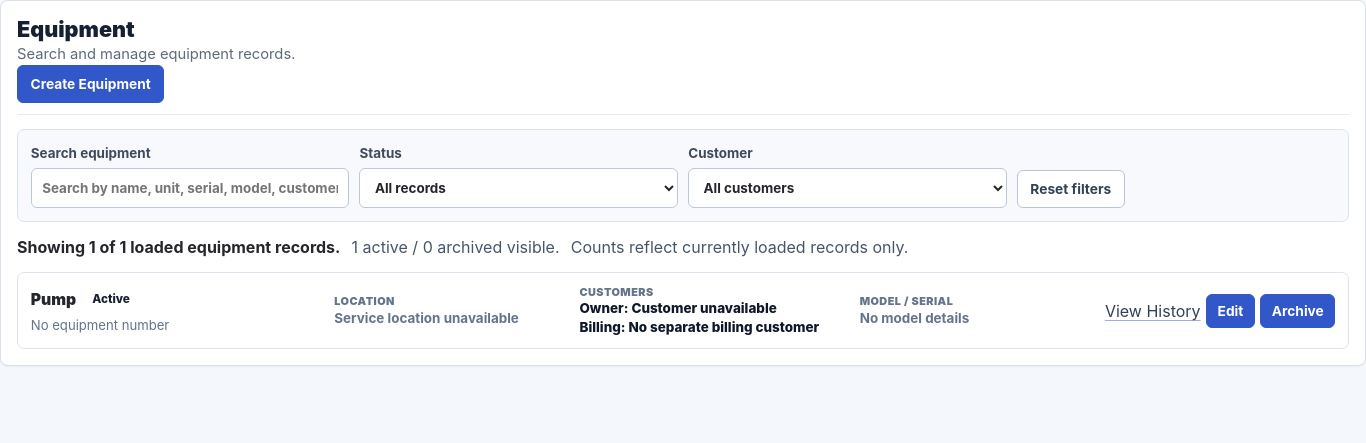
EquipmentPage › archives and unarchives equipment and surfaces unarchive failure
Click the button "Archive". click: (1298, 311)
box: [1260,294,1335,328]
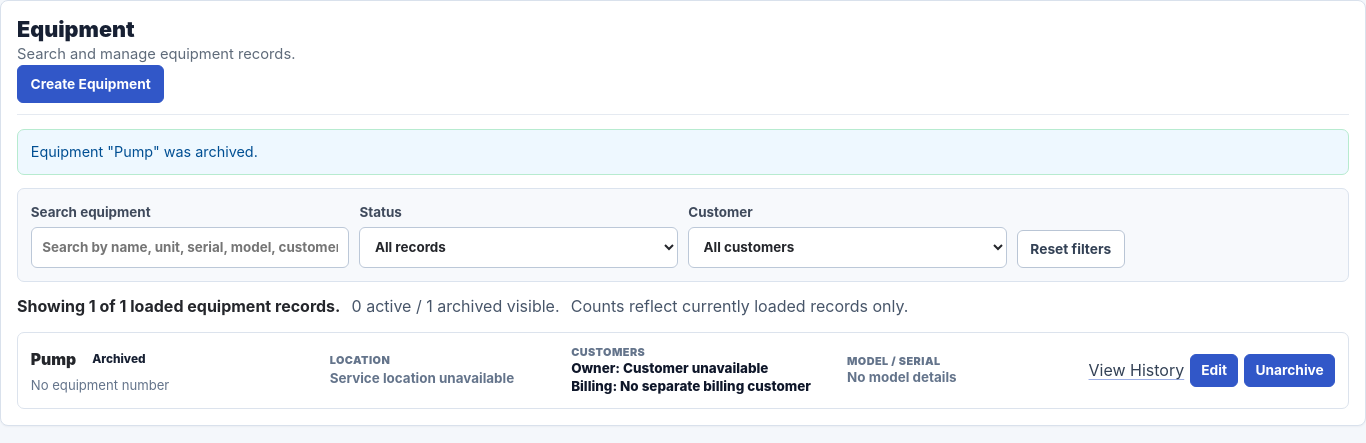
Click the button "Unarchive". click: (1290, 370)
box: [1244,354,1335,387]
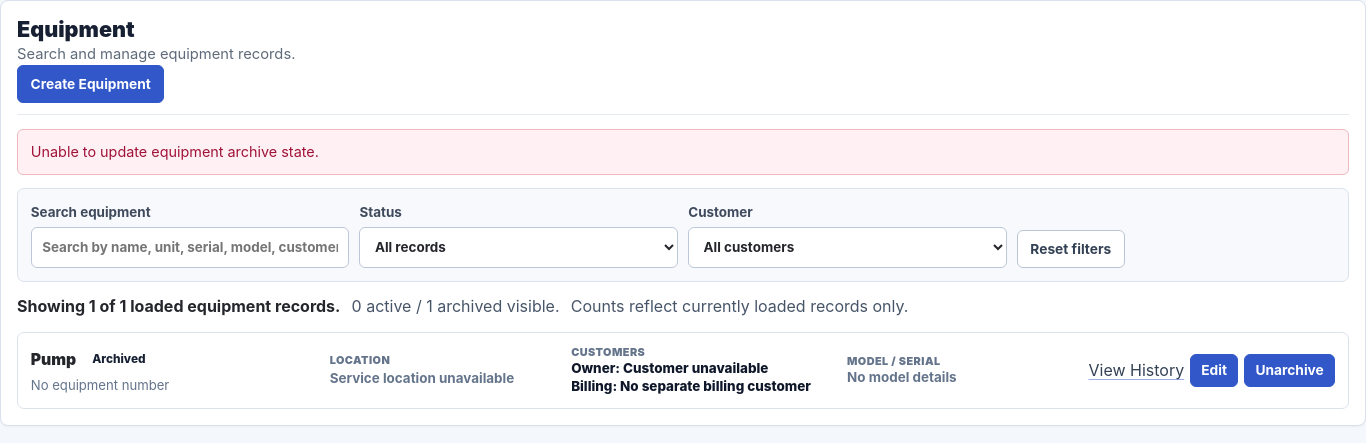
Expected: the text "Unable to update equipment archive state." is shown, [17,129,1349,175]
